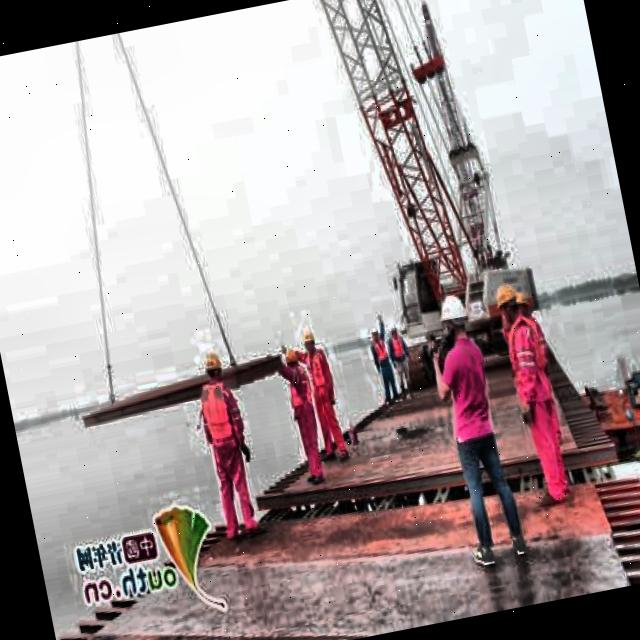helmet: (430, 286, 472, 346), (492, 278, 526, 326), (200, 350, 228, 388), (278, 342, 307, 378), (300, 323, 326, 359)
